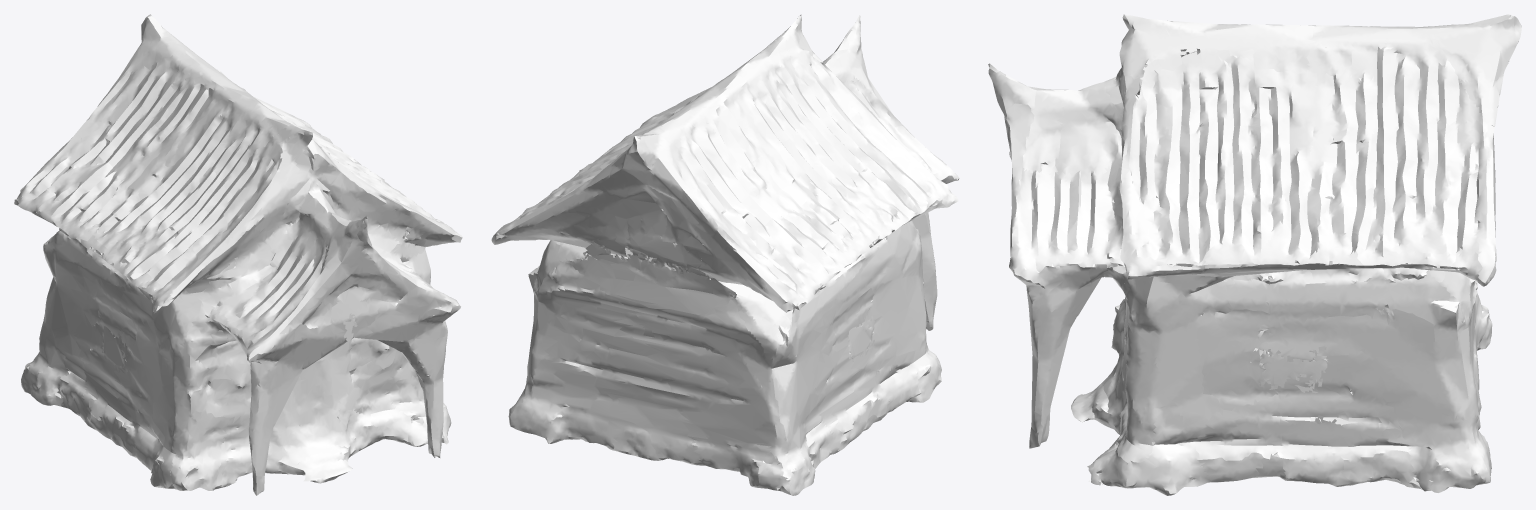
Rendered from house_timber_a.glb.
3 renders of one model, left to right at view 1: azimuth 30°, elevation 25°; view 2: azimuth 150°, elevation 25°; view 3: azimuth 270°, elevation 25°, orthographic. The views are drawn at different scales.
Parts seen in each view (by area): view 1: output_unwrapped; view 2: output_unwrapped; view 3: output_unwrapped.
Part boxes in pixels (box(x1,y1,x2,y2)): output_unwrapped: box(14, 14, 462, 495); output_unwrapped: box(491, 14, 959, 495); output_unwrapped: box(988, 14, 1521, 495).
Bounding box in the file's own units: 7.27 × 7.5 × 9.03.
1 material, 1 textured.
